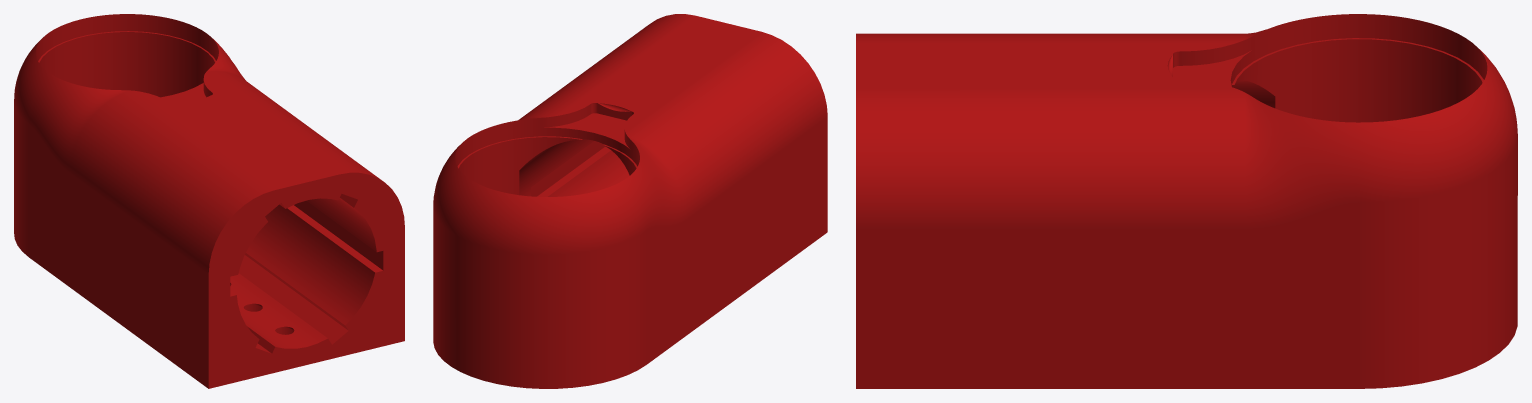
Rendered from UnionCodoMuñeca.gltf.
3 views of the same model, side by side, from view 1: azimuth 30°, elevation 25°; view 2: azimuth 150°, elevation 25°; view 3: azimuth 270°, elevation 25° (orthographic). The views are drawn at different scales.
Parts seen in each view (by area): view 1: codo; view 2: codo; view 3: codo.
Boxes of the visible parts, x1,y1,x2,y2 form: codo: [14, 14, 404, 388]; codo: [433, 14, 827, 388]; codo: [856, 14, 1517, 388].
Size of the model in its own units: 0.036 by 0.032 by 0.075.
